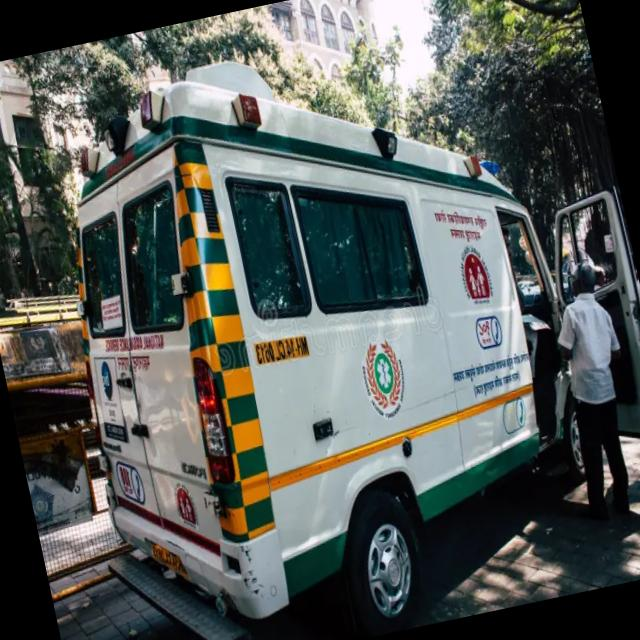ambulance: (36, 8, 574, 624)
